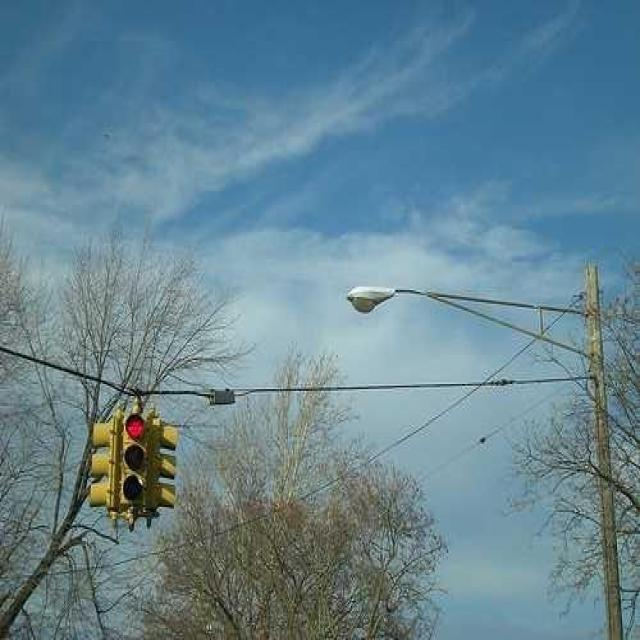Traffic Light -Red-: (117, 411, 151, 509)
